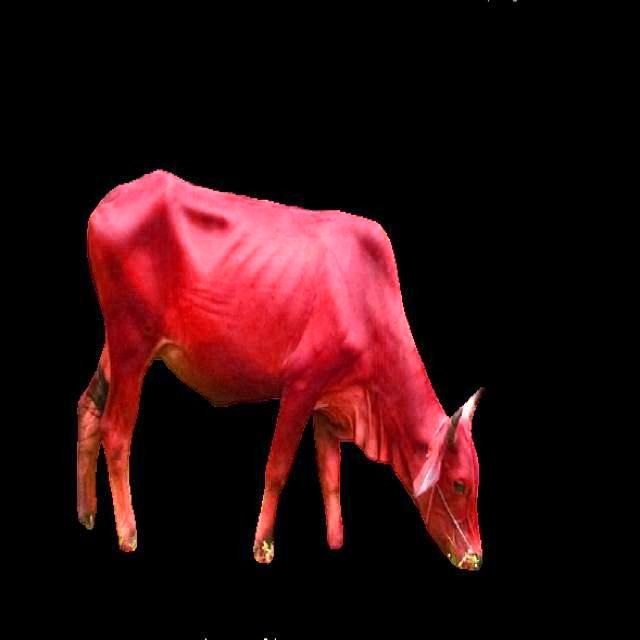COW: (78, 171, 482, 569)
